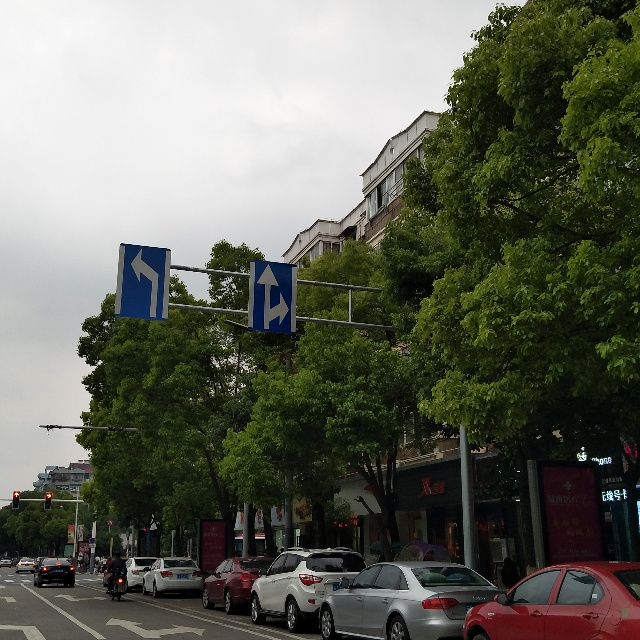left: (120, 245, 167, 317)
